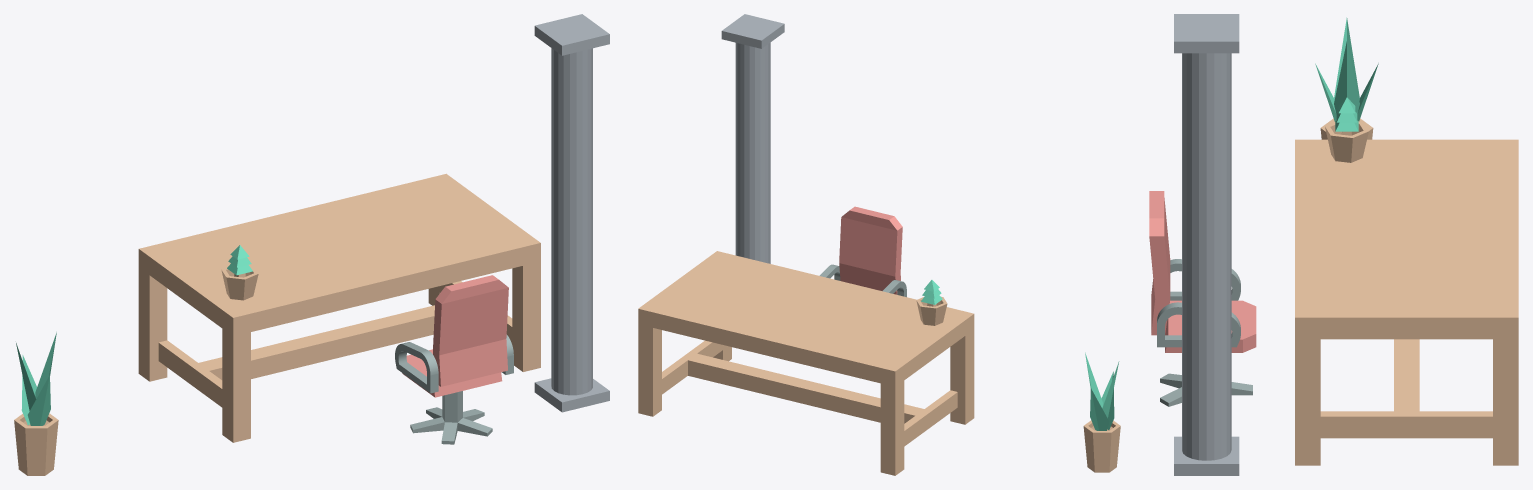
3 views of the same model, side by side, from view 1: azimuth 30°, elevation 25°; view 2: azimuth 150°, elevation 25°; view 3: azimuth 270°, elevation 25° (orthographic). The views are drawn at different scales.
Parts seen in each view (by area): view 1: table_green__table(Clone), column_cyan__column_cyan shaft, deskchair_black__chair, plant_pink__pottedPlant(Clone), column_cyan__column_cyan capital, deskchair_black__chairDesk(Clone), plant_pink__plant, flowerpot_green__plantSmall1(Clone), column_cyan__column_cyan plinth; view 2: table_green__table(Clone), column_cyan__column_cyan shaft, deskchair_black__chair, plant_pink__pottedPlant(Clone), column_cyan__column_cyan capital, plant_pink__plant, flowerpot_green__plantSmall1(Clone); view 3: table_green__table(Clone), column_cyan__column_cyan shaft, deskchair_black__chair, column_cyan__column_cyan capital, flowerpot_green__plantSmall1(Clone), plant_pink__plant, column_cyan__column_cyan plinth, deskchair_black__chairDesk(Clone).
Boxes of the visible parts, x1,y1,x2,y2 form: table_green__table(Clone): (138,173,540,442); column_cyan__column_cyan shaft: (551,48,592,395); deskchair_black__chair: (395,275,513,397); plant_pink__pottedPlant(Clone): (14,413,58,475); column_cyan__column_cyan capital: (534,14,609,55); deskchair_black__chairDesk(Clone): (410,391,492,444); plant_pink__plant: (16,332,56,425); flowerpot_green__plantSmall1(Clone): (221,245,258,300); column_cyan__column_cyan plinth: (534,378,609,412); table_green__table(Clone): (638,251,974,475); column_cyan__column_cyan shaft: (735,42,770,263); deskchair_black__chair: (819,206,906,297); plant_pink__pottedPlant(Clone): (1083,420,1120,472); column_cyan__column_cyan capital: (721,14,784,48); plant_pink__plant: (1085,352,1119,430); flowerpot_green__plantSmall1(Clone): (916,280,947,325); table_green__table(Clone): (1295,139,1518,465); column_cyan__column_cyan shaft: (1182,53,1231,460); deskchair_black__chair: (1149,191,1256,352); column_cyan__column_cyan capital: (1174,14,1239,53); flowerpot_green__plantSmall1(Clone): (1325,97,1368,162); plant_pink__plant: (1315,17,1378,121); column_cyan__column_cyan plinth: (1174,436,1239,475); deskchair_black__chairDesk(Clone): (1160,373,1252,406).
Size of the model in its own units: 3.27 by 2.2 by 1.7.
